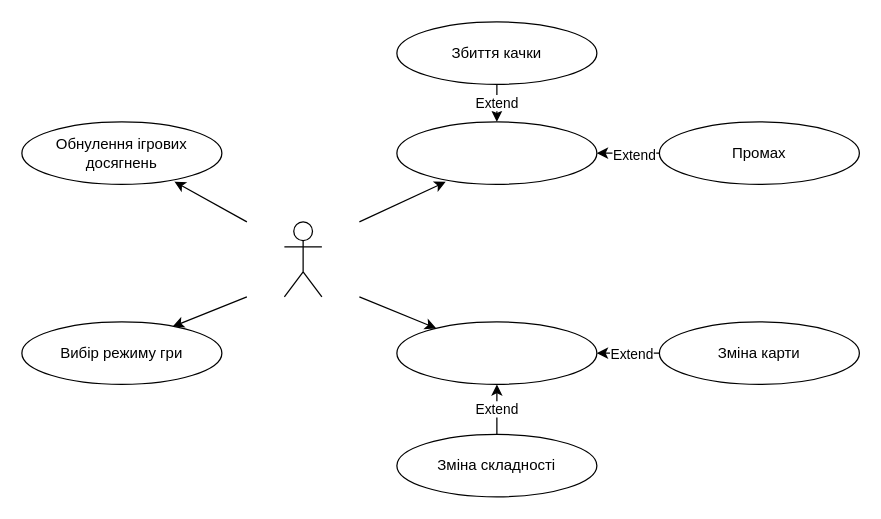
Some shapes in this 881 by 519 pixel diagram are drawn without their labels. The box of each missing label's shape, as (x1, y1, x2, y2) in pixels:
Зміна ігрових налаштувань: (396, 321, 597, 384)
Користувач: (283, 221, 322, 297)
Постріл: (396, 121, 597, 184)
